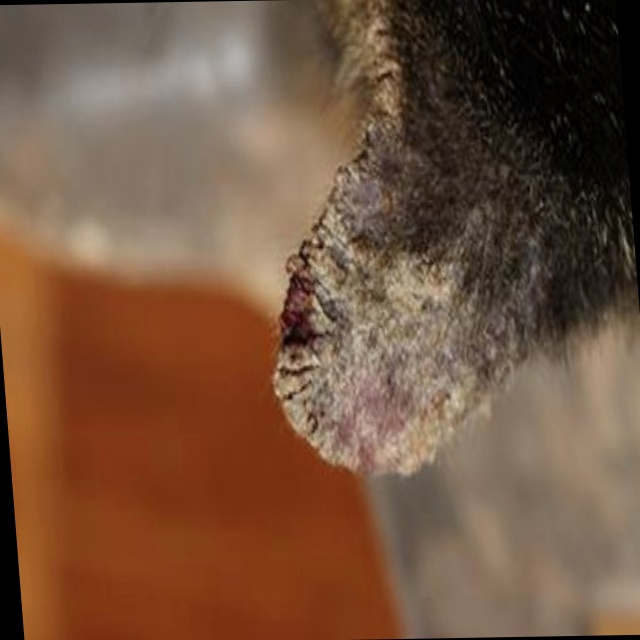ringworm: (276, 216, 501, 460)
